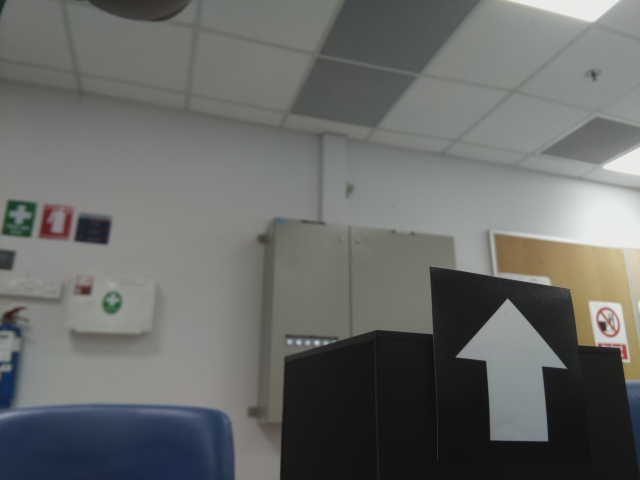up: (441, 279, 588, 452)
